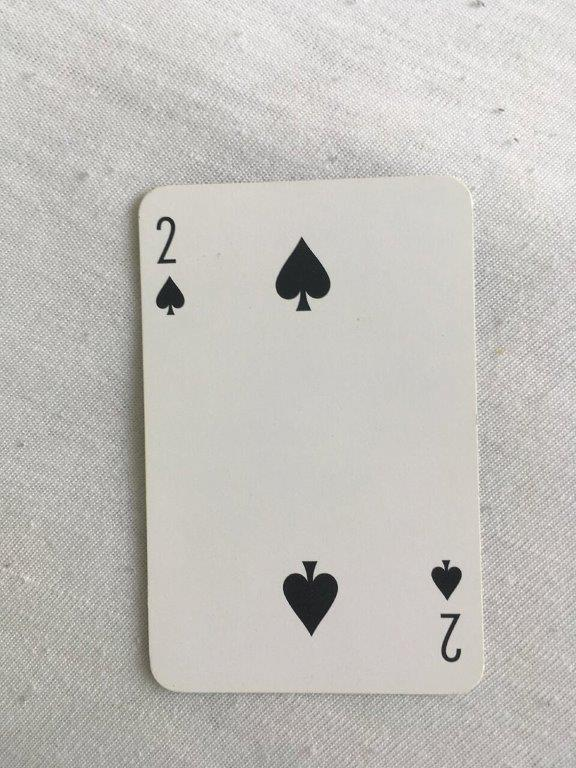2S: (133, 172, 489, 699)
